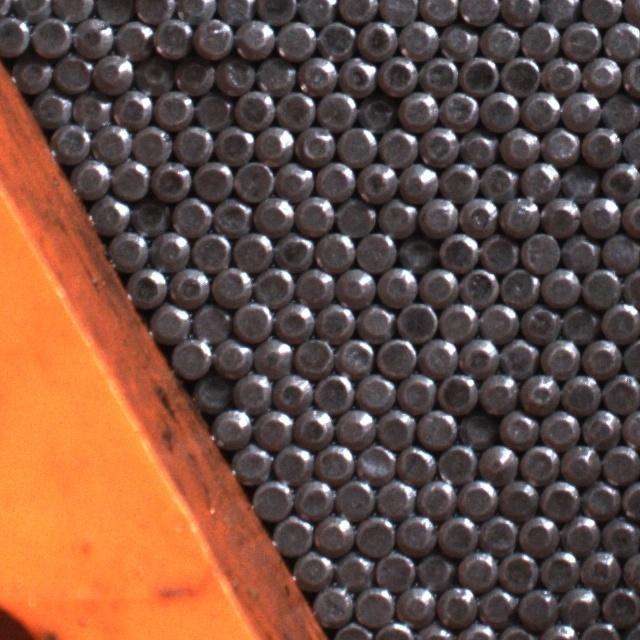tool: (250, 477, 292, 519), (357, 16, 398, 58), (148, 301, 189, 343), (353, 584, 394, 625), (333, 475, 374, 516), (274, 17, 315, 58), (30, 14, 71, 55), (395, 511, 436, 552), (457, 192, 498, 233), (168, 265, 209, 306), (93, 51, 134, 92), (190, 300, 231, 341), (498, 549, 539, 590), (456, 546, 496, 588), (230, 442, 270, 484), (294, 192, 334, 234), (477, 370, 517, 412), (519, 87, 559, 129), (293, 475, 333, 517), (270, 514, 312, 554), (252, 191, 292, 233), (126, 265, 166, 307), (312, 511, 352, 552), (376, 335, 417, 375), (354, 513, 395, 553), (232, 369, 272, 410), (233, 157, 273, 198), (518, 371, 558, 412), (109, 157, 149, 198), (357, 159, 398, 199), (252, 406, 292, 447), (192, 15, 232, 56), (540, 265, 580, 306), (211, 263, 252, 303), (312, 370, 353, 410), (373, 547, 414, 587), (150, 158, 190, 199), (456, 476, 497, 516), (272, 368, 312, 409), (560, 370, 600, 411), (397, 299, 438, 339), (169, 336, 210, 376), (498, 476, 539, 516), (498, 194, 538, 235), (72, 15, 113, 55), (253, 264, 294, 304), (398, 160, 439, 200), (192, 158, 232, 199), (376, 54, 416, 95), (394, 581, 435, 621), (418, 53, 458, 94), (499, 52, 540, 92), (89, 192, 129, 233), (500, 264, 539, 306), (70, 156, 109, 198), (601, 582, 640, 624), (436, 513, 476, 553), (355, 369, 395, 409), (131, 122, 171, 162), (355, 230, 395, 270), (234, 16, 274, 56), (211, 195, 251, 235), (438, 371, 478, 411), (255, 54, 295, 94), (213, 120, 253, 160), (581, 266, 621, 306), (333, 548, 373, 588), (438, 299, 478, 339), (477, 512, 517, 552), (107, 228, 147, 268), (232, 298, 272, 338), (436, 584, 476, 624), (538, 546, 578, 586), (312, 583, 352, 623), (395, 370, 435, 410), (478, 298, 518, 338), (172, 121, 212, 161), (313, 230, 353, 270), (171, 194, 211, 234), (498, 335, 538, 375), (354, 300, 394, 340), (539, 195, 579, 235), (293, 335, 333, 375), (375, 195, 415, 235), (519, 231, 559, 271), (377, 124, 417, 164), (272, 441, 312, 481), (600, 371, 640, 411), (478, 90, 518, 130), (273, 298, 313, 338), (252, 334, 292, 374), (336, 123, 376, 163), (580, 123, 620, 163), (498, 125, 538, 165), (540, 477, 580, 517), (92, 120, 132, 160), (600, 442, 640, 482), (600, 230, 640, 270), (560, 88, 600, 128), (296, 53, 336, 93), (150, 228, 190, 268), (276, 87, 316, 127), (274, 158, 314, 198), (334, 404, 374, 444), (274, 229, 314, 269), (518, 442, 558, 482), (458, 265, 498, 305), (296, 264, 336, 304), (560, 440, 600, 480), (316, 88, 356, 128), (600, 513, 640, 553), (232, 229, 272, 269), (579, 544, 619, 584), (294, 405, 334, 445), (292, 548, 332, 588), (519, 17, 558, 58), (417, 193, 456, 234), (113, 15, 152, 56), (399, 18, 438, 59), (517, 512, 558, 551), (317, 17, 356, 58), (314, 159, 354, 198), (211, 334, 250, 374), (335, 335, 375, 374), (154, 86, 193, 126), (478, 19, 518, 58), (580, 476, 619, 516), (582, 53, 621, 93), (561, 18, 600, 58), (51, 119, 90, 159), (52, 51, 91, 91), (540, 54, 579, 94), (416, 474, 455, 514), (539, 407, 578, 447), (210, 407, 249, 447), (580, 336, 620, 375), (517, 586, 556, 626), (356, 440, 396, 479), (153, 16, 192, 56), (417, 335, 456, 375), (376, 265, 415, 305), (540, 124, 579, 164), (438, 230, 477, 270), (416, 407, 455, 447), (255, 122, 294, 162), (415, 549, 455, 588), (337, 52, 376, 92), (314, 300, 353, 340), (375, 476, 414, 516), (601, 158, 640, 198), (601, 300, 640, 340), (418, 264, 457, 304), (520, 302, 560, 341), (477, 584, 516, 624), (518, 159, 558, 198), (601, 90, 640, 130), (190, 230, 229, 270), (560, 231, 599, 271), (294, 123, 334, 162), (560, 302, 600, 341), (559, 580, 599, 619), (457, 335, 497, 374), (173, 55, 213, 94), (130, 197, 170, 236), (580, 194, 618, 235), (314, 440, 353, 479), (335, 196, 374, 235), (235, 87, 274, 126), (438, 159, 477, 198), (440, 88, 479, 127), (457, 408, 496, 447), (215, 55, 254, 94), (336, 264, 375, 303), (479, 232, 518, 271), (418, 124, 457, 163), (398, 89, 437, 128), (70, 87, 109, 126), (134, 52, 173, 91), (560, 161, 599, 200), (560, 511, 599, 550), (538, 336, 578, 374), (602, 20, 640, 60), (437, 441, 477, 479), (376, 407, 414, 447), (396, 442, 434, 482), (111, 86, 151, 124), (498, 407, 536, 447), (356, 92, 396, 130), (459, 52, 499, 90), (439, 20, 478, 58), (478, 160, 517, 198), (581, 406, 620, 444), (458, 127, 497, 165), (194, 88, 232, 127), (396, 232, 434, 271), (192, 373, 230, 412), (11, 55, 51, 92), (478, 440, 516, 478), (33, 87, 70, 125), (0, 12, 29, 54), (580, 0, 620, 25), (500, 0, 539, 24), (298, 0, 337, 24), (95, 0, 134, 24), (418, 0, 458, 23), (256, 0, 297, 22), (460, 0, 499, 23), (136, 0, 175, 23), (580, 618, 620, 640), (456, 618, 496, 640), (414, 618, 454, 640), (378, 0, 418, 22), (540, 0, 578, 23), (331, 619, 372, 640), (338, 0, 377, 22), (215, 0, 254, 22), (175, 0, 214, 22), (52, 0, 94, 20), (374, 619, 414, 640), (620, 194, 640, 235), (538, 620, 578, 640), (621, 264, 640, 306), (621, 478, 640, 518), (621, 407, 640, 447), (496, 621, 536, 640), (12, 0, 52, 19), (622, 55, 640, 96), (622, 336, 640, 377), (622, 546, 640, 587), (621, 124, 640, 162)
